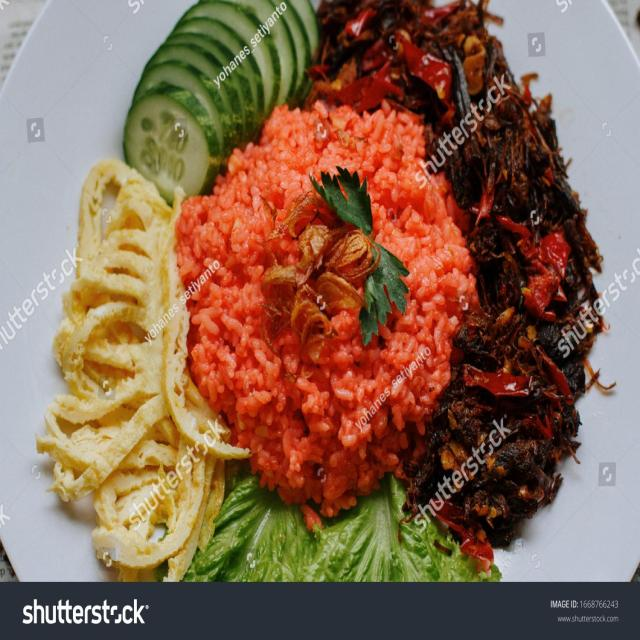Nasi Goreng: (148, 106, 462, 474)
